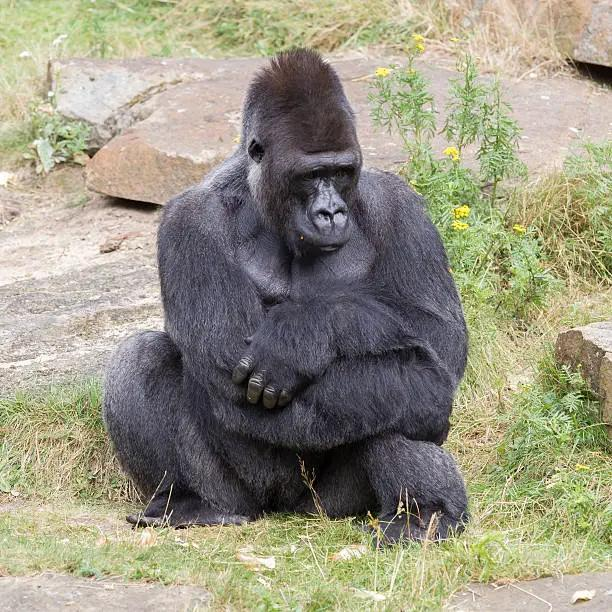gorille_Autres: (105, 24, 509, 544)
